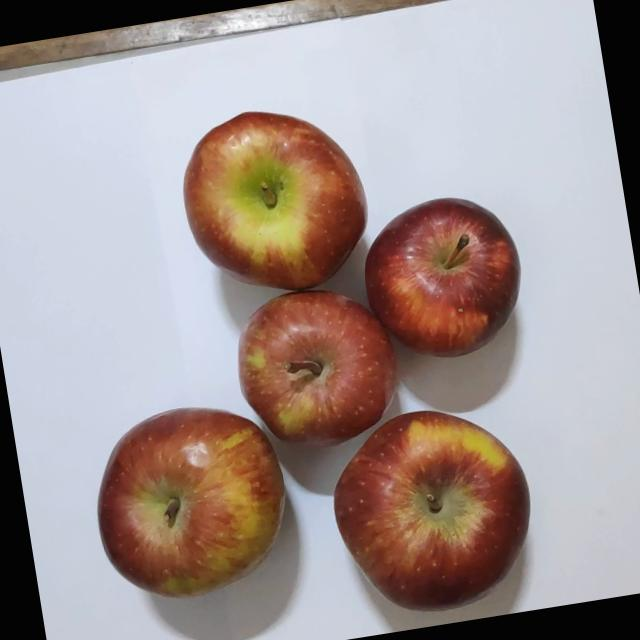apple: (318, 392, 551, 626), (74, 388, 302, 620), (165, 91, 381, 308), (210, 277, 411, 468), (350, 178, 538, 373)
